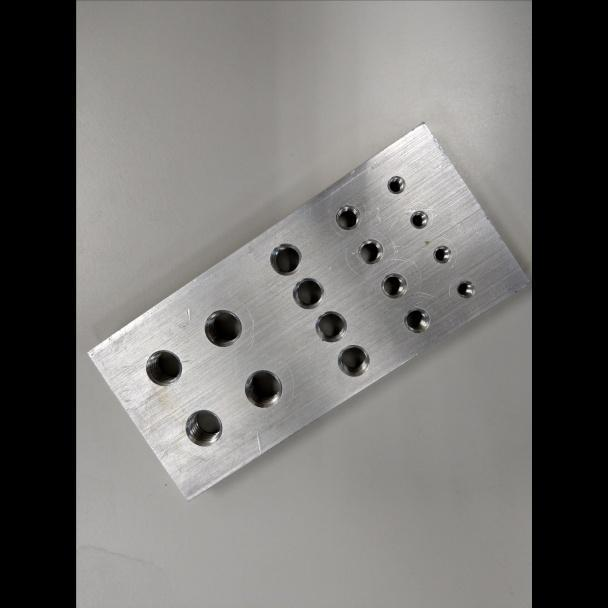hole: (242, 368, 283, 408), (202, 308, 242, 348), (184, 408, 223, 447), (144, 348, 183, 387), (268, 242, 302, 276), (336, 344, 370, 377), (291, 276, 324, 310), (314, 310, 347, 343), (402, 306, 430, 333), (357, 237, 384, 265), (380, 272, 407, 299), (334, 203, 361, 230), (408, 209, 429, 229), (432, 244, 452, 264), (386, 175, 406, 195), (455, 279, 475, 298)
